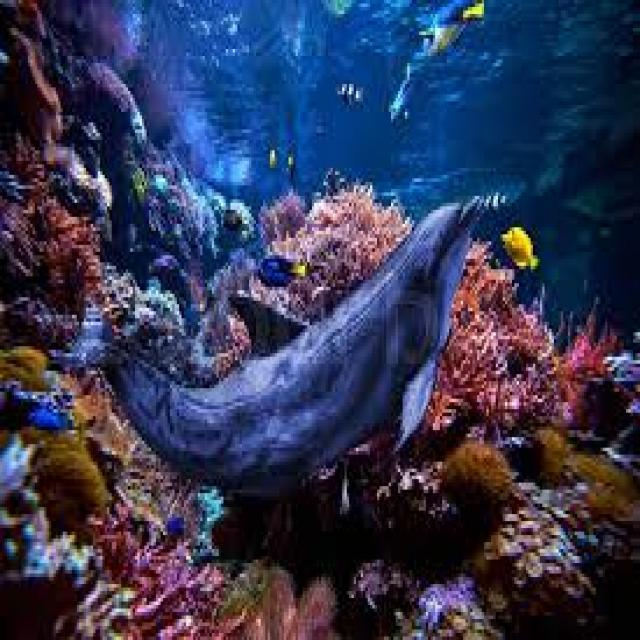dolphin: (72, 178, 489, 521)
